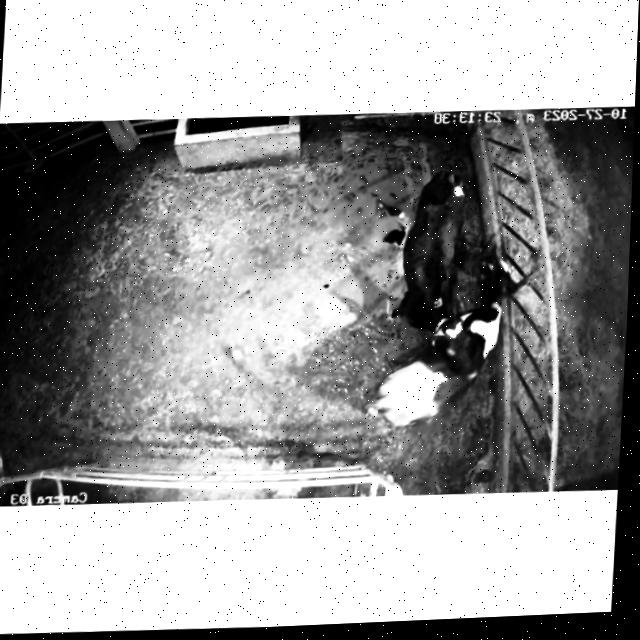propping: (410, 297, 495, 395)
